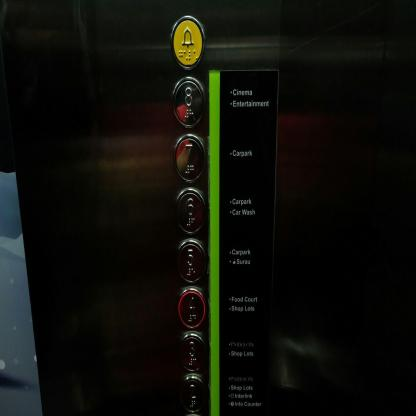2: (179, 374, 206, 413)
3: (178, 330, 206, 372)
4: (177, 286, 206, 328)
5: (175, 238, 207, 282)
6: (174, 187, 207, 233)
7: (174, 134, 207, 182)
8: (171, 76, 206, 128)
alarm: (170, 15, 206, 68)
